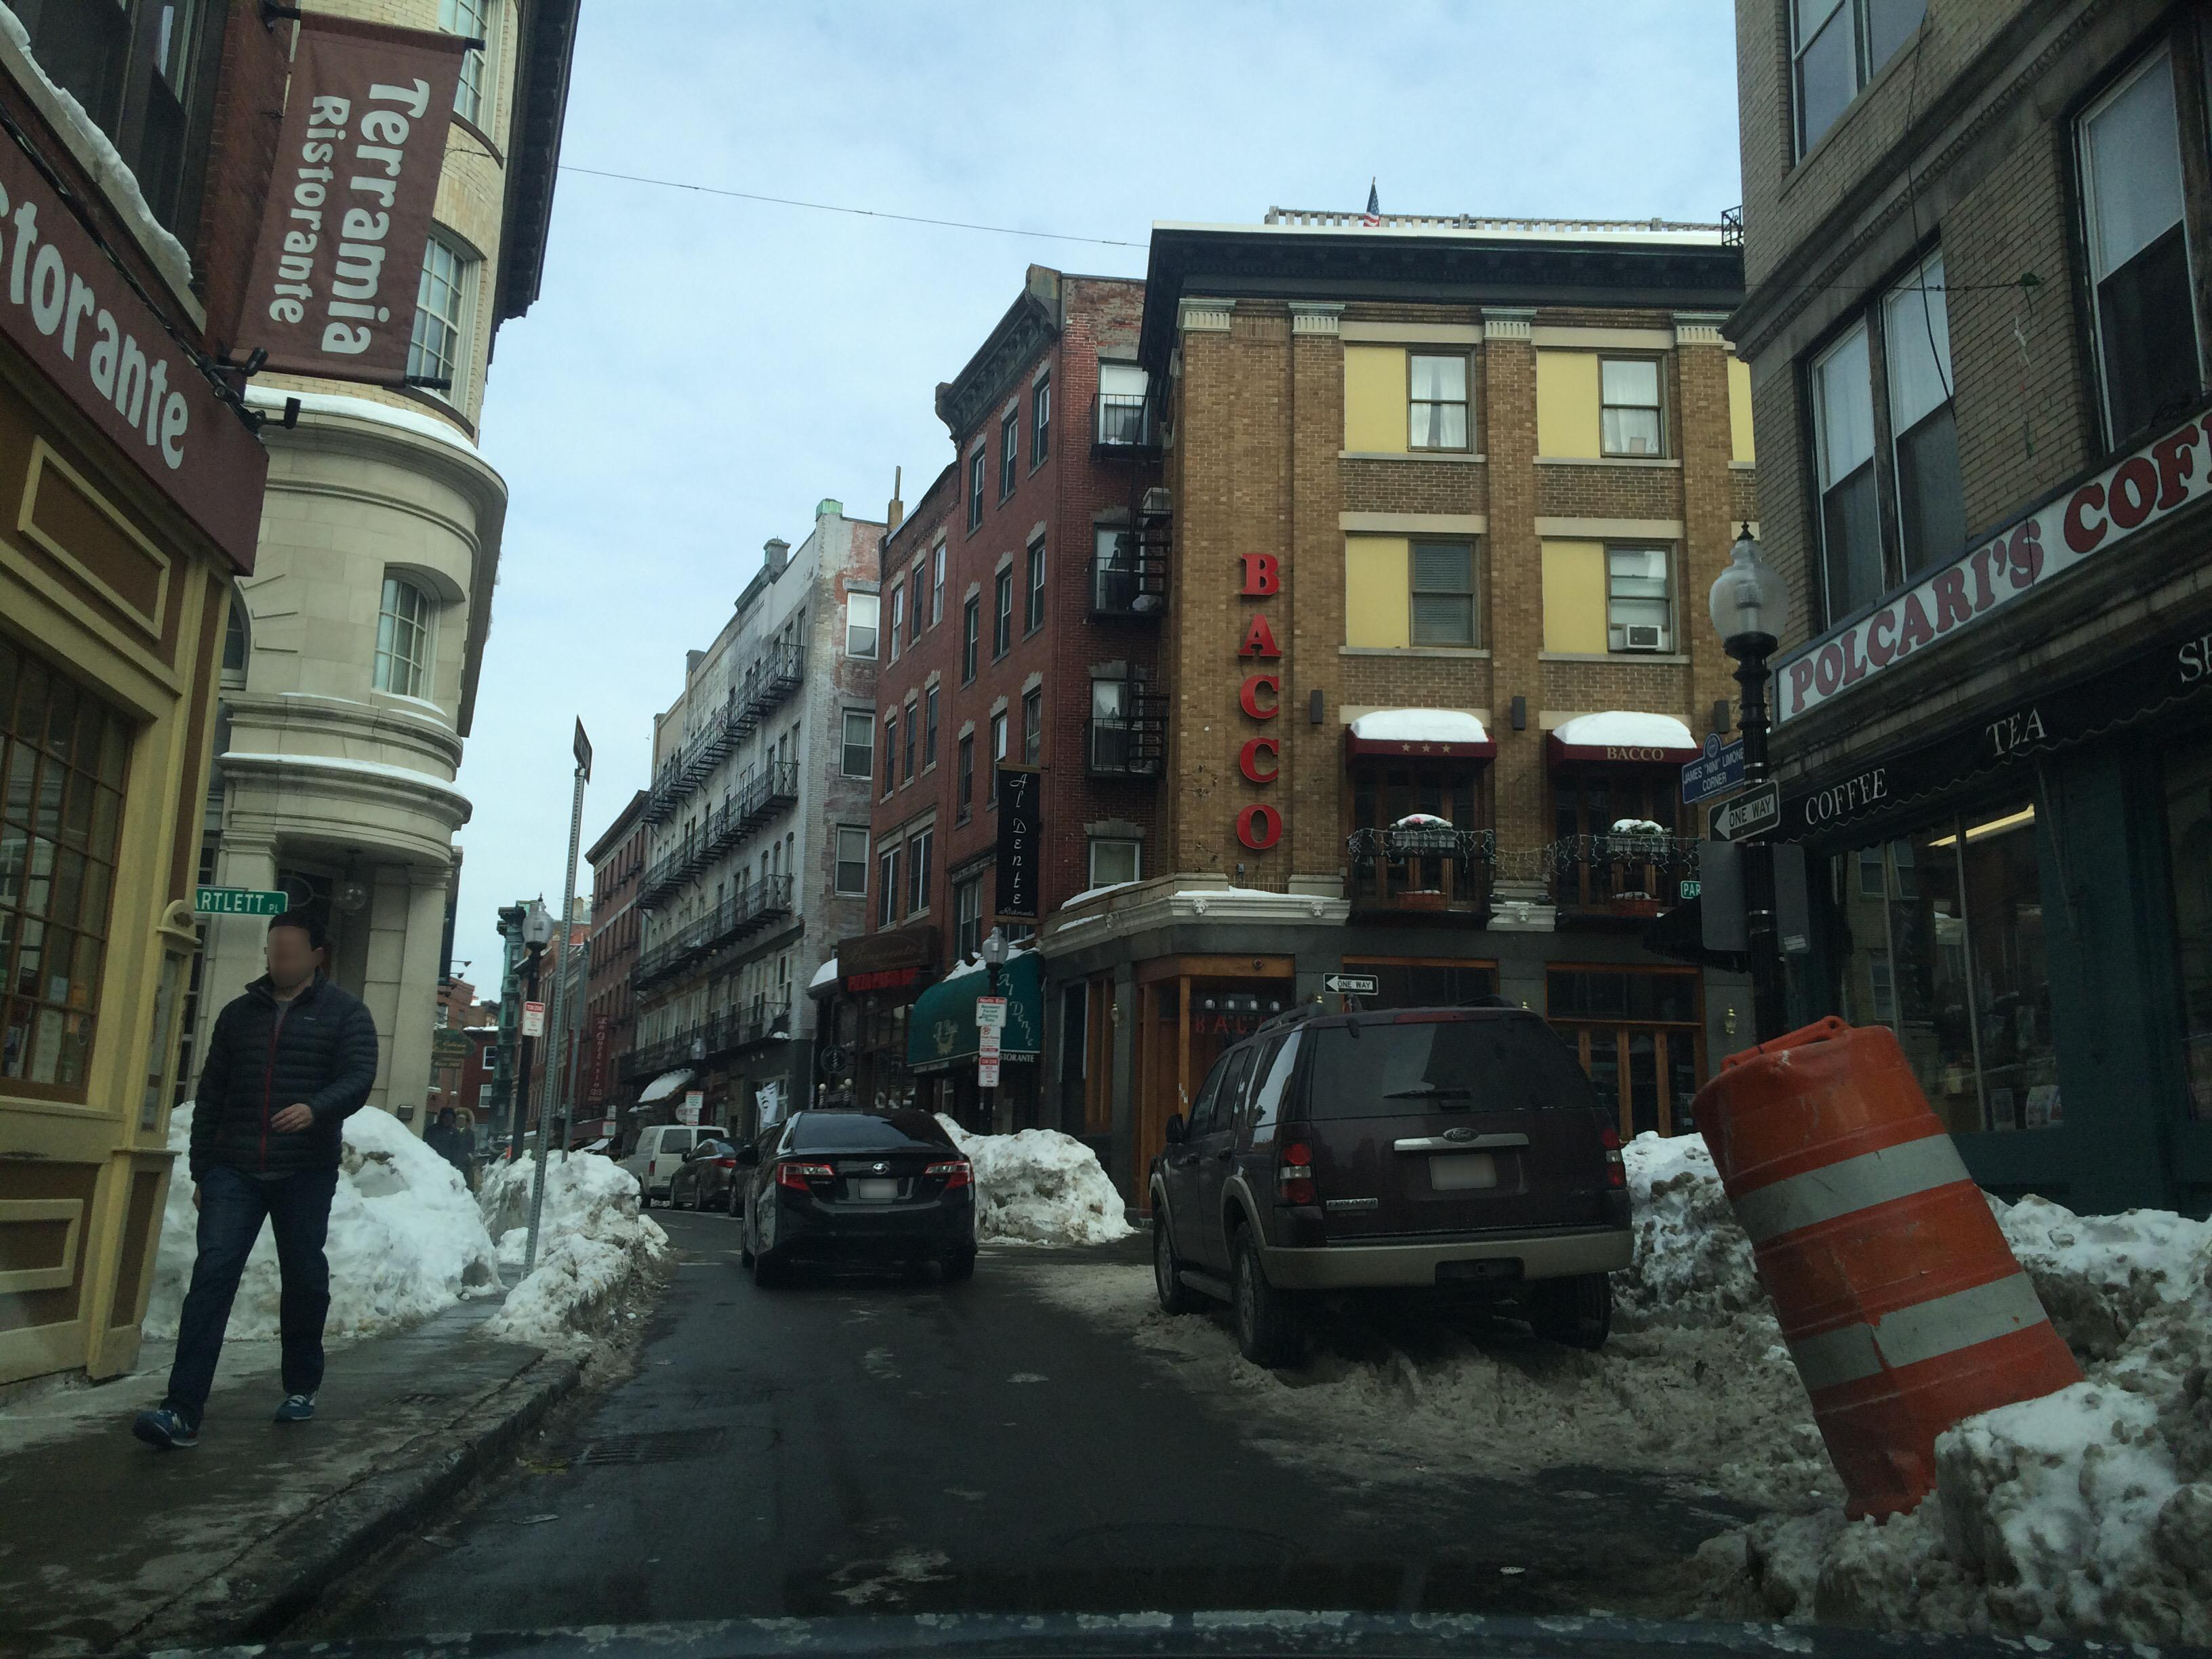vinyl banner: (265, 5, 460, 390)
